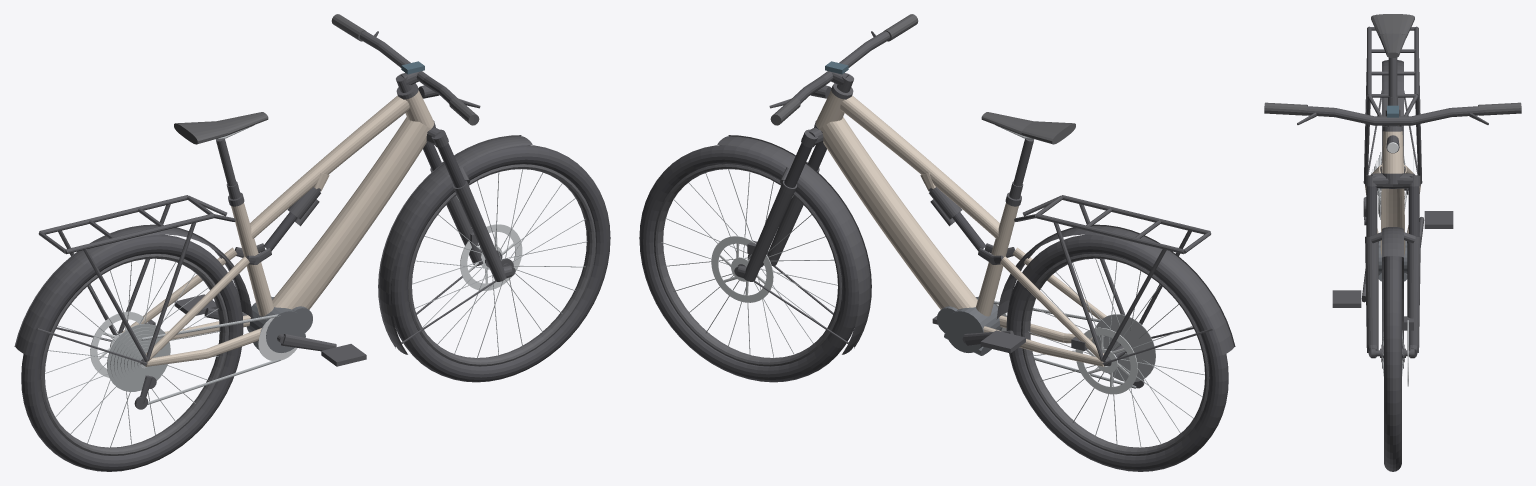
File: ebike-mtb-aventon-current-rec.glb
3 views of the same model, side by side, from view 1: azimuth 30°, elevation 25°; view 2: azimuth 150°, elevation 25°; view 3: azimuth 270°, elevation 25° (orthographic). The views are drawn at different scales.
Parts seen in each view (by area): view 1: front_wheel_tire, rear_wheel_tire, accessories_fenders, frame_downtube, accessories_rear_rack, front_wheel_rim, rear_wheel_rim, frame_toptube, drivetrain_cassette, fork_lowers, front_wheel_spokes, rear_seatstays (+14 smaller); view 2: front_wheel_tire, rear_wheel_tire, accessories_fenders, frame_downtube, accessories_rear_rack, front_wheel_rim, rear_wheel_rim, frame_toptube, fork_lowers, drivetrain_cassette, front_wheel_spokes, rear_wheel_spokes (+13 smaller); view 3: front_wheel_tire, fork_lowers, accessories_rear_rack, accessories_fenders, cockpit_riser_bar, saddle_shell, drivetrain_crankset, fork_stanchions, frame_downtube, cockpit_grips, frame_headtube, fork_crown (+2 smaller).
Part boxes in pixels (box(x1,y1,x2,y2)): front_wheel_tire: box(391, 145, 610, 382); rear_wheel_tire: box(21, 234, 243, 471); accessories_fenders: box(14, 135, 532, 364); frame_downtube: box(272, 117, 430, 309); accessories_rear_rack: box(38, 195, 235, 361); front_wheel_rim: box(408, 164, 595, 366); rear_wheel_rim: box(40, 254, 228, 455); frame_toptube: box(250, 95, 409, 238); drivetrain_cassette: box(107, 323, 170, 391); fork_lowers: box(430, 160, 515, 281); front_wheel_spokes: box(412, 169, 587, 358); rear_seatstays: box(122, 247, 249, 360); front_wheel_tire: box(639, 145, 858, 382); rear_wheel_tire: box(1006, 234, 1228, 471); accessories_fenders: box(717, 135, 1235, 364); frame_downtube: box(819, 117, 977, 309); accessories_rear_rack: box(1014, 195, 1211, 361); front_wheel_rim: box(654, 164, 841, 366); rear_wheel_rim: box(1021, 254, 1209, 455); frame_toptube: box(840, 95, 999, 238); fork_lowers: box(734, 160, 819, 281); drivetrain_cassette: box(1092, 314, 1155, 381); front_wheel_spokes: box(661, 169, 837, 357); rear_wheel_spokes: box(1028, 258, 1204, 447); front_wheel_tire: box(1384, 256, 1401, 471); fork_lowers: box(1365, 228, 1420, 358); accessories_rear_rack: box(1363, 26, 1422, 183); accessories_fenders: box(1365, 60, 1420, 368); cockpit_riser_bar: box(1299, 106, 1486, 125); saddle_shell: box(1371, 14, 1414, 57); drivetrain_crankset: box(1332, 211, 1453, 307); fork_stanchions: box(1366, 186, 1419, 236); frame_downtube: box(1380, 163, 1405, 256); cockpit_grips: box(1264, 102, 1521, 115); frame_headtube: box(1382, 131, 1403, 173); fork_crown: box(1365, 173, 1420, 188).
Bounding box in the file's own units: 1.94 × 1.06 × 0.7833.
